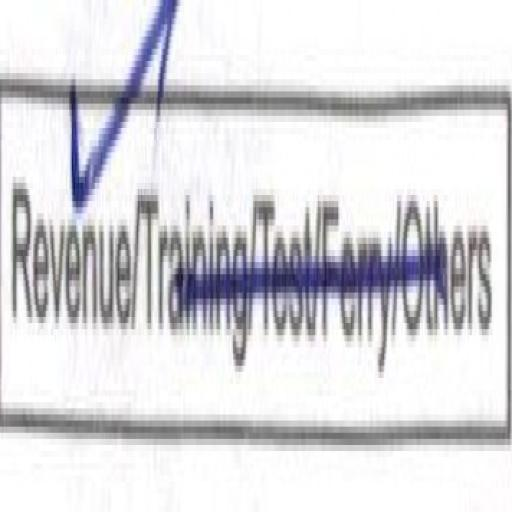check: (0, 0, 132, 420)
